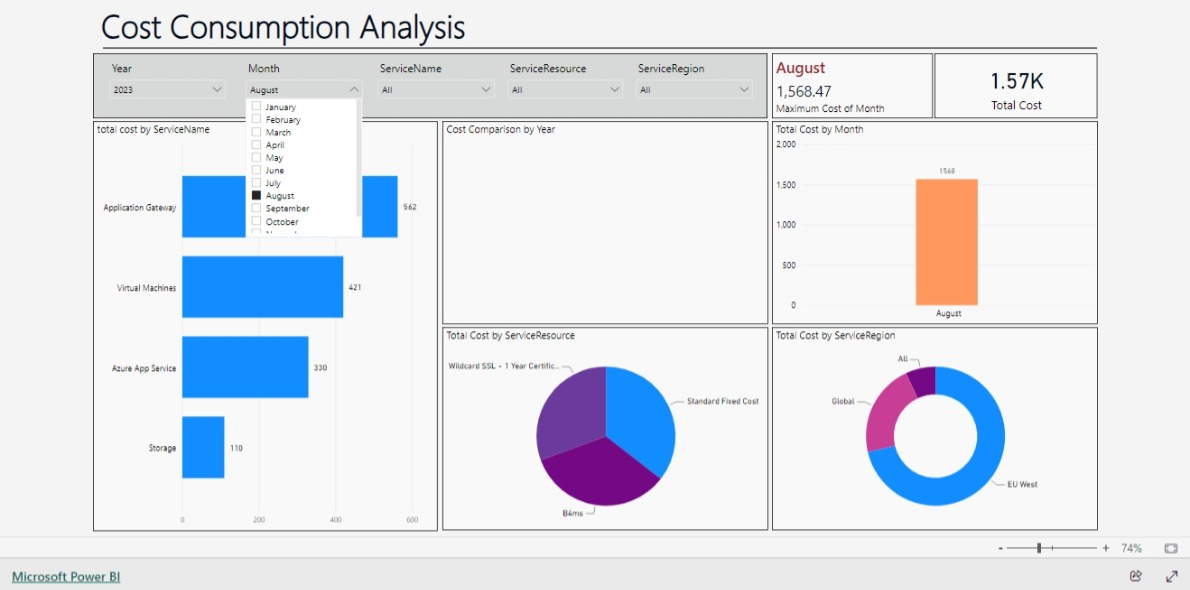

The dashboard page shown, as its layout file describes it:
{"tool":"powerbi","page":{"name":"Page 1","canvas":[1503,800],"ordinal":0},"visuals":[{"type":"shape","box":[3.2,79,1006,97],"z":0},{"type":"columnChart","title":"Total Cost by Month","fields":{"Category":["AzureUsage_Workxflow_10-01-2024.Date.Variation.Date Hierarchy.Month"],"Y":["Sum(AzureUsage_Workxflow_10-01-2024.Cost)"]},"box":[1015,180,486,303.4],"z":1000},{"type":"donutChart","title":"Total Cost by ServiceRegion","fields":{"Category":["AzureUsage_Workxflow_10-01-2024.ServiceRegion"],"Y":["Sum(AzureUsage_Workxflow_10-01-2024.Cost)"]},"box":[1015,488,486,303],"z":2000},{"type":"pieChart","title":"Total Cost by ServiceResource","fields":{"Category":["AzureUsage_Workxflow_10-01-2024.ServiceResource"],"Y":["Sum(AzureUsage_Workxflow_10-01-2024.Cost)"]},"box":[523.3,488,486,303],"z":3000},{"type":"clusteredBarChart","title":"total cost by ServiceName","fields":{"Category":["AzureUsage_Workxflow_10-01-2024.ServiceName"],"Y":["Sum(AzureUsage_Workxflow_10-01-2024.Cost)"]},"box":[3,180,514,611],"z":4000},{"type":"card","fields":{"Values":["Sum(AzureUsage_Workxflow_10-01-2024.Cost)"]},"box":[1258.3,79,242.7,97],"z":5000},{"type":"slicer","fields":{"Values":["AzureUsage_Workxflow_10-01-2024.ServiceName"]},"box":[417,85.7,193.9,87.3],"z":6000},{"type":"slicer","fields":{"Values":["AzureUsage_Workxflow_10-01-2024.ServiceResource"]},"box":[610.9,85.7,192.3,87.3],"z":7000},{"type":"slicer","fields":{"Values":["AzureUsage_Workxflow_10-01-2024.ServiceRegion"]},"box":[803.2,85.7,193.9,87.3],"z":8000},{"type":"slicer","fields":{"Values":["AzureUsage_Workxflow_10-01-2024.Date.Variation.Date Hierarchy.Year"]},"box":[17.6,86.2,193,86.2],"z":9000},{"type":"multiRowCard","fields":{"Values":["AzureUsage_Workxflow_10-01-2024.Date.Variation.Date Hierarchy.Month","Sum(AzureUsage_Workxflow_10-01-2024.Cost)"]},"box":[1015.6,79.8,239.5,97.4],"z":10000},{"type":"stackedAreaChart","title":"Cost Comparison by Year","fields":{"Category":["AzureUsage_Workxflow_10-01-2024.Date.Variation.Date Hierarchy.Month"],"Y":["AzureUsage_Workxflow_10-01-2024.Cost for 2022","AzureUsage_Workxflow_10-01-2024.Cost for 2023","AzureUsage_Workxflow_10-01-2024.Cost for 2024"]},"box":[523.3,180,486,303.3],"z":11000},{"type":"shape","box":[17.6,19,1483.4,105.4],"z":12000},{"type":"textbox","box":[9.6,0,811.2,83],"z":13000},{"type":"slicer","fields":{"Values":["AzureUsage_Workxflow_10-01-2024.Date.Variation.Date Hierarchy.Month"]},"box":[221.4,85.7,193.9,87.3],"z":13001}]}

Visuals, with their boxes on the page's 1503x800 design canvas (x1, y1, x2, y2). These are canvas units, not pixel positions in the 1190x590 screenshot, which may show the page scaled, cropped or inside an application window:
shape: l=3, t=79, r=1009, b=176
"Total Cost by Month" columnChart: l=1015, t=180, r=1501, b=483
"Total Cost by ServiceRegion" donutChart: l=1015, t=488, r=1501, b=791
"Total Cost by ServiceResource" pieChart: l=523, t=488, r=1009, b=791
"total cost by ServiceName" clusteredBarChart: l=3, t=180, r=517, b=791
card - Sum(AzureUsage_Workxflow_10-01-2024.Cost): l=1258, t=79, r=1501, b=176
slicer - AzureUsage_Workxflow_10-01-2024.ServiceName: l=417, t=86, r=611, b=173
slicer - AzureUsage_Workxflow_10-01-2024.ServiceResource: l=611, t=86, r=803, b=173
slicer - AzureUsage_Workxflow_10-01-2024.ServiceRegion: l=803, t=86, r=997, b=173
slicer - AzureUsage_Workxflow_10-01-2024.Date.Variation.Date Hierarchy.Year: l=18, t=86, r=211, b=172
multiRowCard - AzureUsage_Workxflow_10-01-2024.Date.Variation.Date Hierarchy.Month x Sum(AzureUsage_Workxflow_10-01-2024.Cost): l=1016, t=80, r=1255, b=177
"Cost Comparison by Year" stackedAreaChart: l=523, t=180, r=1009, b=483
shape: l=18, t=19, r=1501, b=124
textbox: l=10, t=0, r=821, b=83
slicer - AzureUsage_Workxflow_10-01-2024.Date.Variation.Date Hierarchy.Month: l=221, t=86, r=415, b=173
